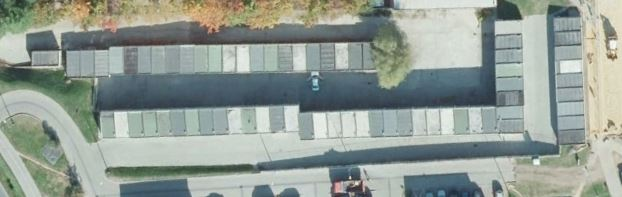garage: (98, 13, 530, 147), (63, 30, 387, 85), (549, 10, 589, 148)
